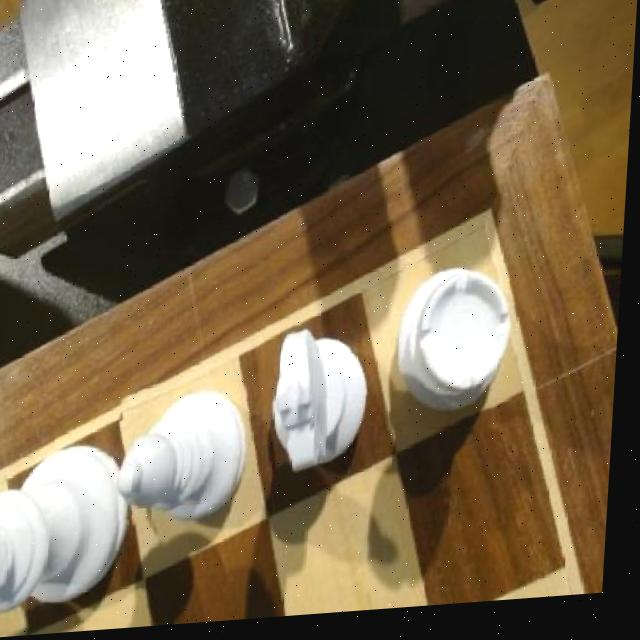black-rook: (116, 382, 265, 537)
white-king: (264, 324, 386, 482)
white-pawn: (0, 423, 141, 632)
white-queen: (395, 266, 526, 444)
